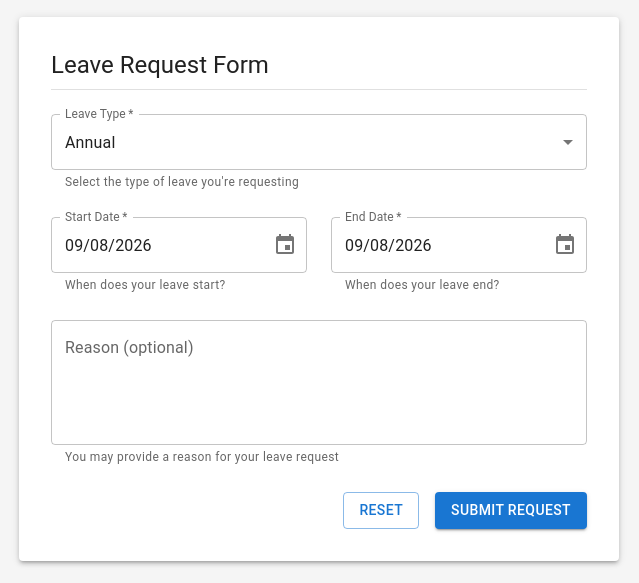
Test: LeaveRequestForm › shows reset functionality
// Fill in reason field
Type "Test reason" into the text box labelled "Reason (optional)". click: (319, 383)
box: [65,337,573,429]
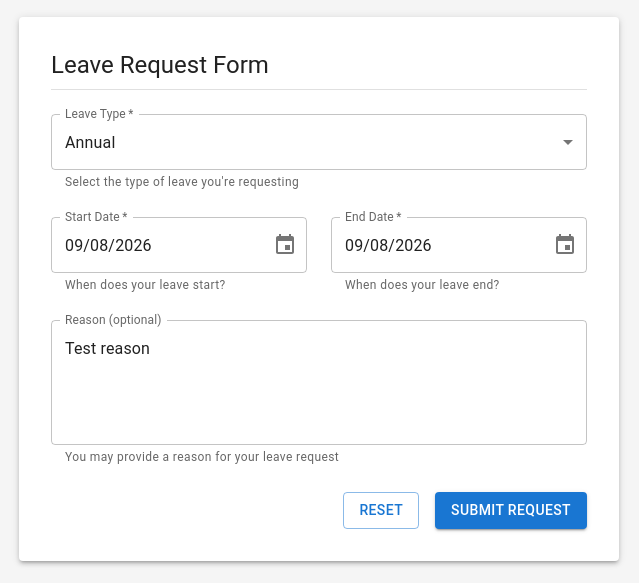
// Click reset button
Click the button "Reset". click: click(381, 510)
box: [343,492,419,529]
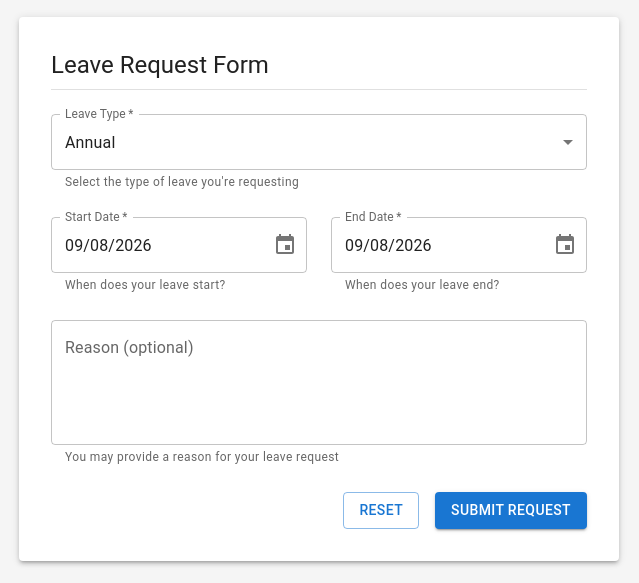
Expected: the text box labelled "Reason (optional)" is empty, [65,337,573,429]
